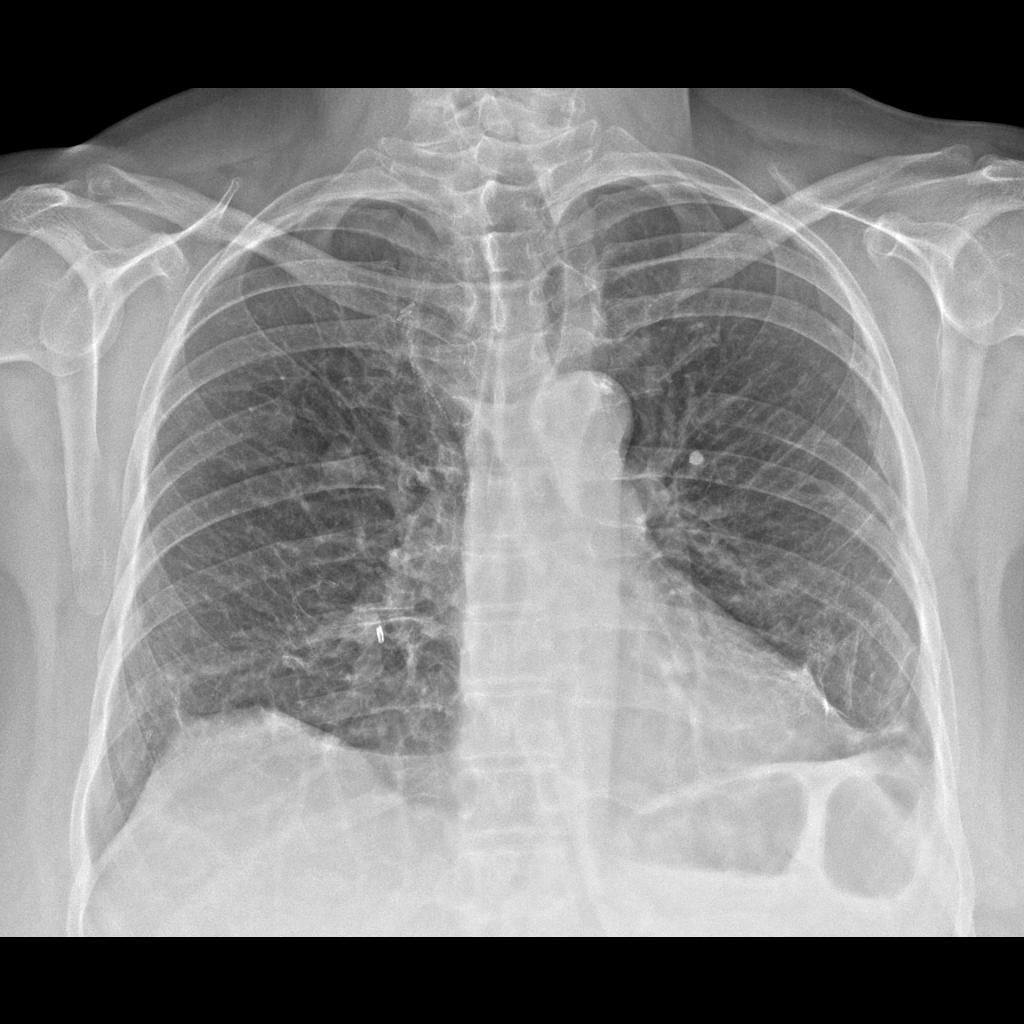Nodule: (314, 435, 374, 491)
